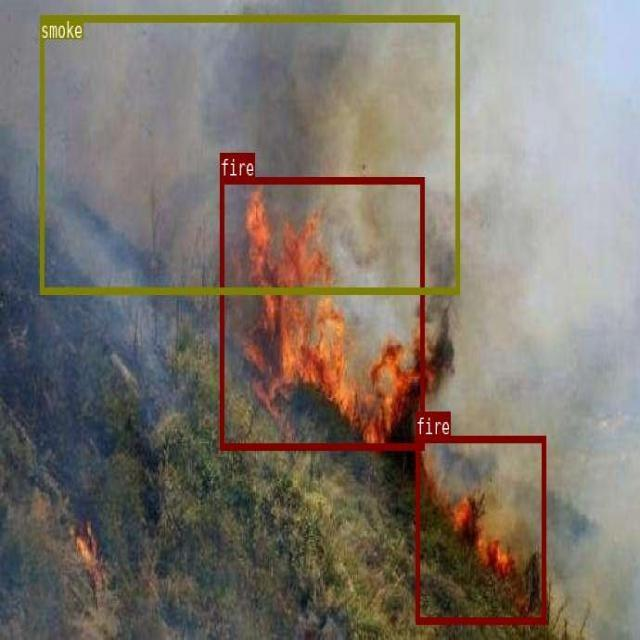fire: (219, 176, 424, 448), (415, 436, 545, 622)
smoke: (40, 14, 459, 293)
